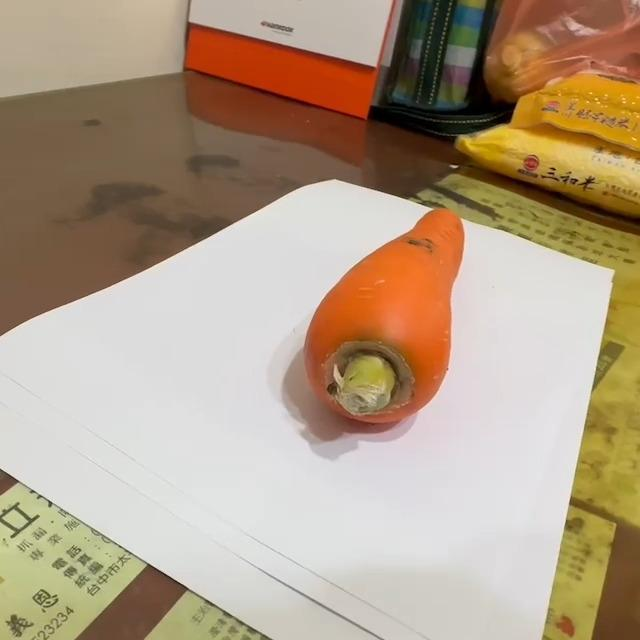carrot: (305, 205, 469, 432)
